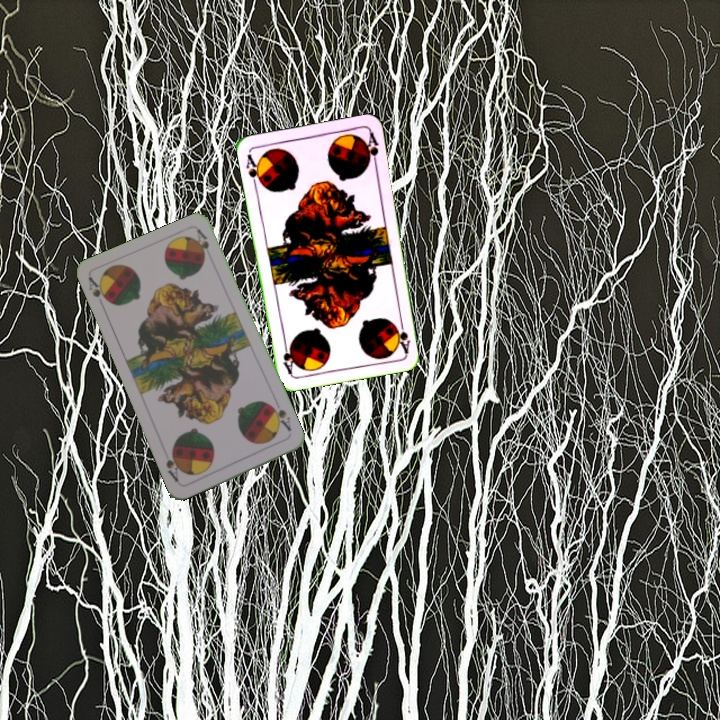SA: (84, 273, 113, 307), (266, 399, 294, 434), (242, 150, 266, 190), (394, 314, 413, 355)
